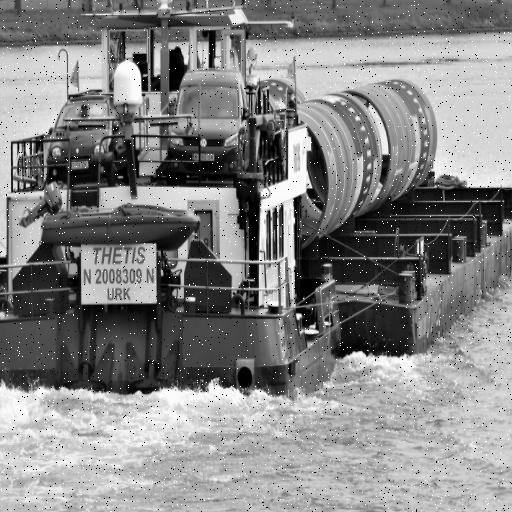tugboat: (1, 1, 346, 421)
